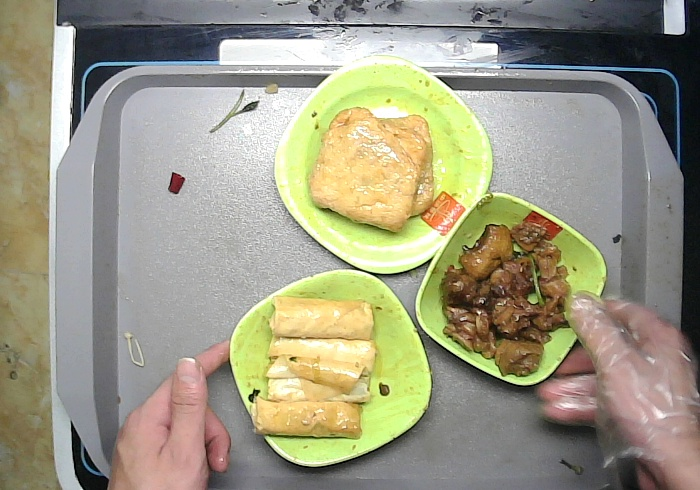SHKJ-Lv_Se_Cai_Die: (229, 268, 435, 469)
SHKJ-Lv_Se_Si_Fang_Cai_Die: (273, 56, 495, 277)
SHKJ-Lv_Se_Xiao_Fang_Die: (415, 190, 606, 389)
